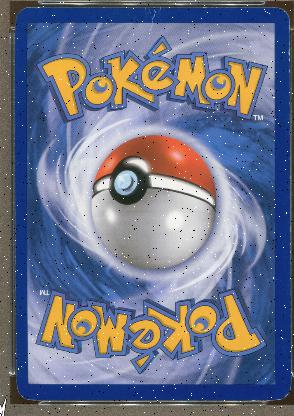Card: (12, 4, 292, 402)
Corner Wear: (18, 390, 38, 400), (270, 392, 287, 400), (281, 9, 286, 16)
Edge Wear: (286, 38, 289, 182), (250, 398, 267, 400), (28, 7, 41, 9), (200, 6, 219, 7)
Scratch: (143, 6, 159, 36)
